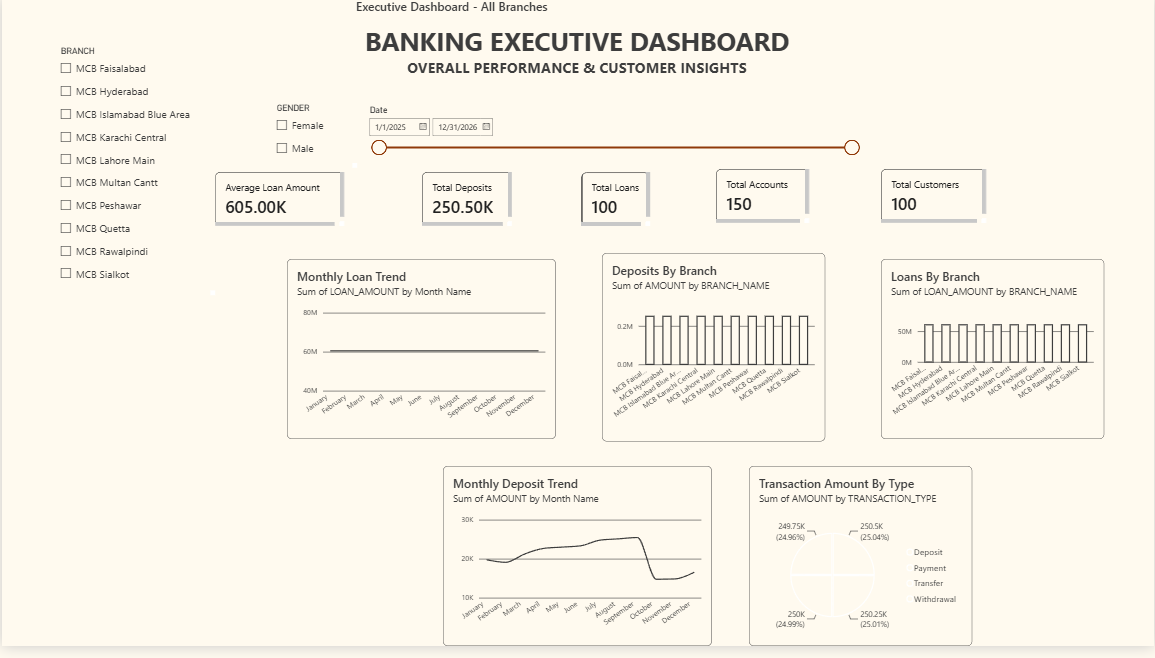

This screenshot's page, from the dashboard's own definition file:
{"tool":"powerbi","page":{"name":"EXECUTIVE DASHBOARD","canvas":[1920,1080],"ordinal":0},"visuals":[{"type":"textbox","box":[590,0,736.7,173.3],"z":0},{"type":"cardVisual","fields":{"Data":["CUSTOMERS.Total Customers"]},"box":[1465,285,175,90],"z":1000},{"type":"cardVisual","fields":{"Data":["BANK_TRANSACTIONS.Total Deposits"]},"box":[700,290,150,90],"z":2000},{"type":"cardVisual","fields":{"Data":["LOANS.Total Loans"]},"box":[965,290,115,90],"z":3000},{"type":"cardVisual","fields":{"Data":["ACCOUNTS.Total Accounts"]},"box":[1190,285,155,90],"z":4000},{"type":"cardVisual","fields":{"Data":["Avg(LOANS.LOAN_AMOUNT)"]},"box":[355,290,215,90],"z":5000},{"type":"slicer","fields":{"Values":["BRANCHES.BRANCH_NAME"]},"box":[90,80,265,415],"z":6000},{"type":"slicer","fields":{"Values":["DateTable.Date"]},"box":[603.8,178.6,827.7,150.2],"z":7000},{"type":"slicer","fields":{"Values":["CUSTOMERS.GENDER"]},"box":[450,175,142,108],"z":8000},{"type":"lineChart","title":"Monthly Deposit Trend","fields":{"Category":["DateTable.Month Name"],"Y":["Sum(BANK_TRANSACTIONS.AMOUNT)"]},"box":[735,780,448,300],"z":9000},{"type":"lineChart","title":"Monthly Loan Trend","fields":{"Category":["DateTable.Month Name"],"Y":["Sum(LOANS.LOAN_AMOUNT)"]},"box":[475,435,448,300],"z":10000},{"type":"clusteredColumnChart","title":"Deposits By Branch","fields":{"Category":["BRANCHES.BRANCH_NAME"],"Y":["Sum(BANK_TRANSACTIONS.AMOUNT)"]},"box":[1000,425,372,314],"z":11000},{"type":"clusteredColumnChart","title":"Loans By Branch","fields":{"Category":["BRANCHES.BRANCH_NAME"],"Y":["Sum(LOANS.LOAN_AMOUNT)"]},"box":[1465,435,372,300],"z":12000},{"type":"pieChart","title":"Transaction Amount By Type","fields":{"Category":["BANK_TRANSACTIONS.TRANSACTION_TYPE"],"Y":["Sum(BANK_TRANSACTIONS.AMOUNT)"]},"box":[1245,780,372,300],"z":13000}]}

Visuals, with their boxes in screenshot pixels (x1, y1, x2, y2), scaled from the page's 1920x1080 canvas onto the 1155x658 screenshot:
textbox: region(355, 0, 798, 106)
cardVisual - CUSTOMERS.Total Customers: region(881, 174, 987, 228)
cardVisual - BANK_TRANSACTIONS.Total Deposits: region(421, 177, 511, 232)
cardVisual - LOANS.Total Loans: region(581, 177, 650, 232)
cardVisual - ACCOUNTS.Total Accounts: region(716, 174, 809, 228)
cardVisual - Avg(LOANS.LOAN_AMOUNT): region(214, 177, 343, 232)
slicer - BRANCHES.BRANCH_NAME: region(54, 49, 214, 302)
slicer - DateTable.Date: region(363, 109, 861, 200)
slicer - CUSTOMERS.GENDER: region(271, 107, 356, 172)
"Monthly Deposit Trend" lineChart: region(442, 475, 712, 657)
"Monthly Loan Trend" lineChart: region(286, 265, 555, 448)
"Deposits By Branch" clusteredColumnChart: region(602, 259, 825, 450)
"Loans By Branch" clusteredColumnChart: region(881, 265, 1105, 448)
"Transaction Amount By Type" pieChart: region(749, 475, 973, 657)
